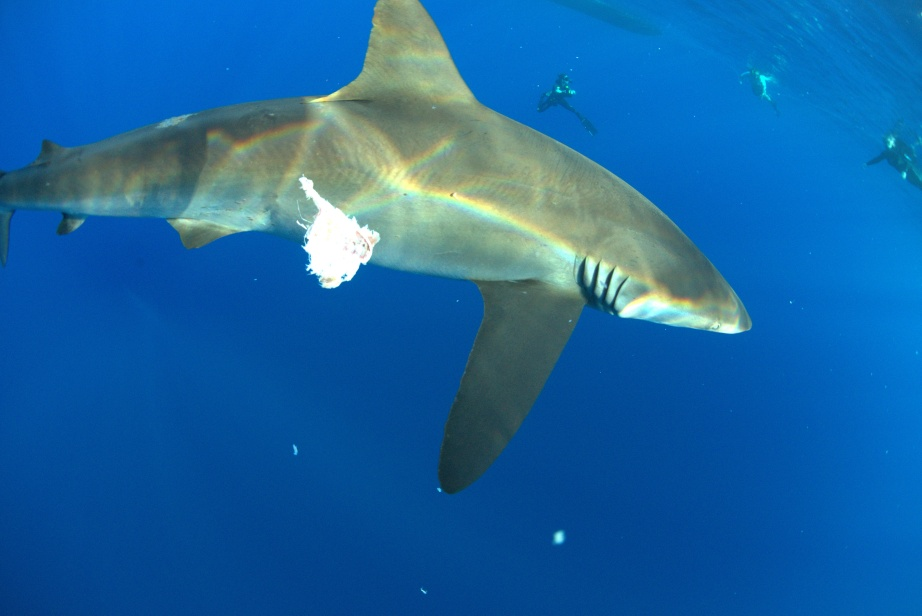Sedoso: (1, 1, 773, 507)
